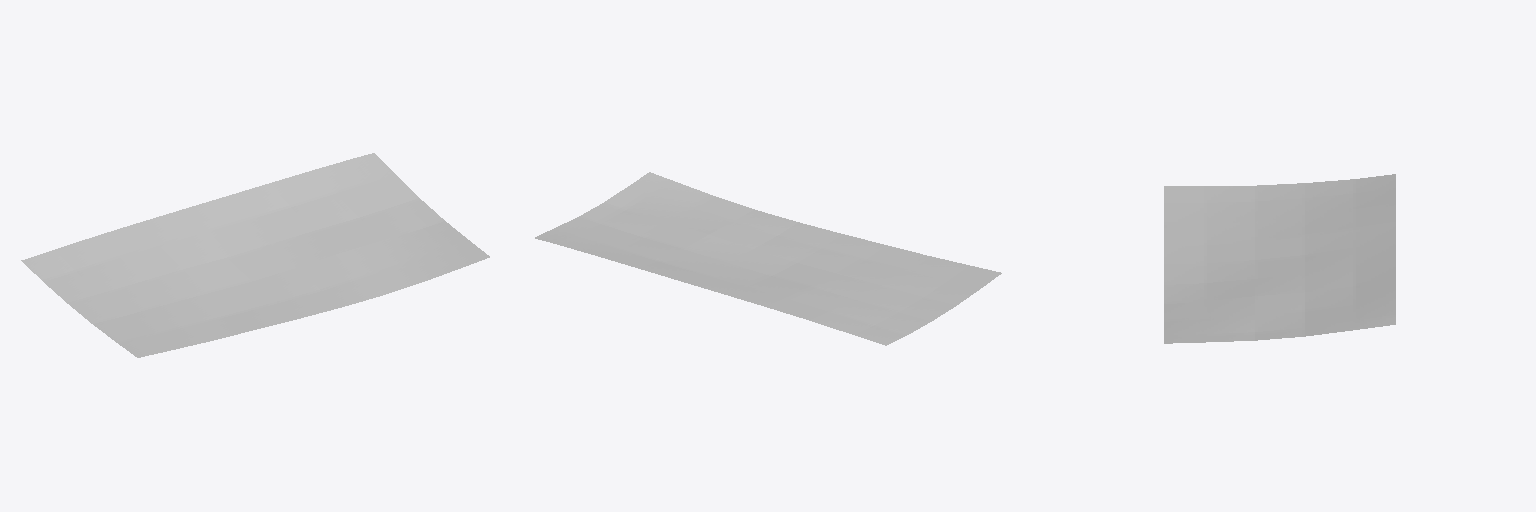
The model's file is teren_za_napustenu_kucu.obj.
3 views of the same model, side by side, from view 1: azimuth 30°, elevation 25°; view 2: azimuth 150°, elevation 25°; view 3: azimuth 270°, elevation 25° (orthographic).
Parts seen in each view (by area): view 1: EXPORT_GOOGLE_SAT_WM; view 2: EXPORT_GOOGLE_SAT_WM; view 3: EXPORT_GOOGLE_SAT_WM.
Boxes of the visible parts, box(x1,y1,x2,y2) form: EXPORT_GOOGLE_SAT_WM: box(21, 153, 489, 357); EXPORT_GOOGLE_SAT_WM: box(535, 172, 1001, 345); EXPORT_GOOGLE_SAT_WM: box(1164, 174, 1395, 343).
Size of the model in its own units: 535 by 50.48 by 306.